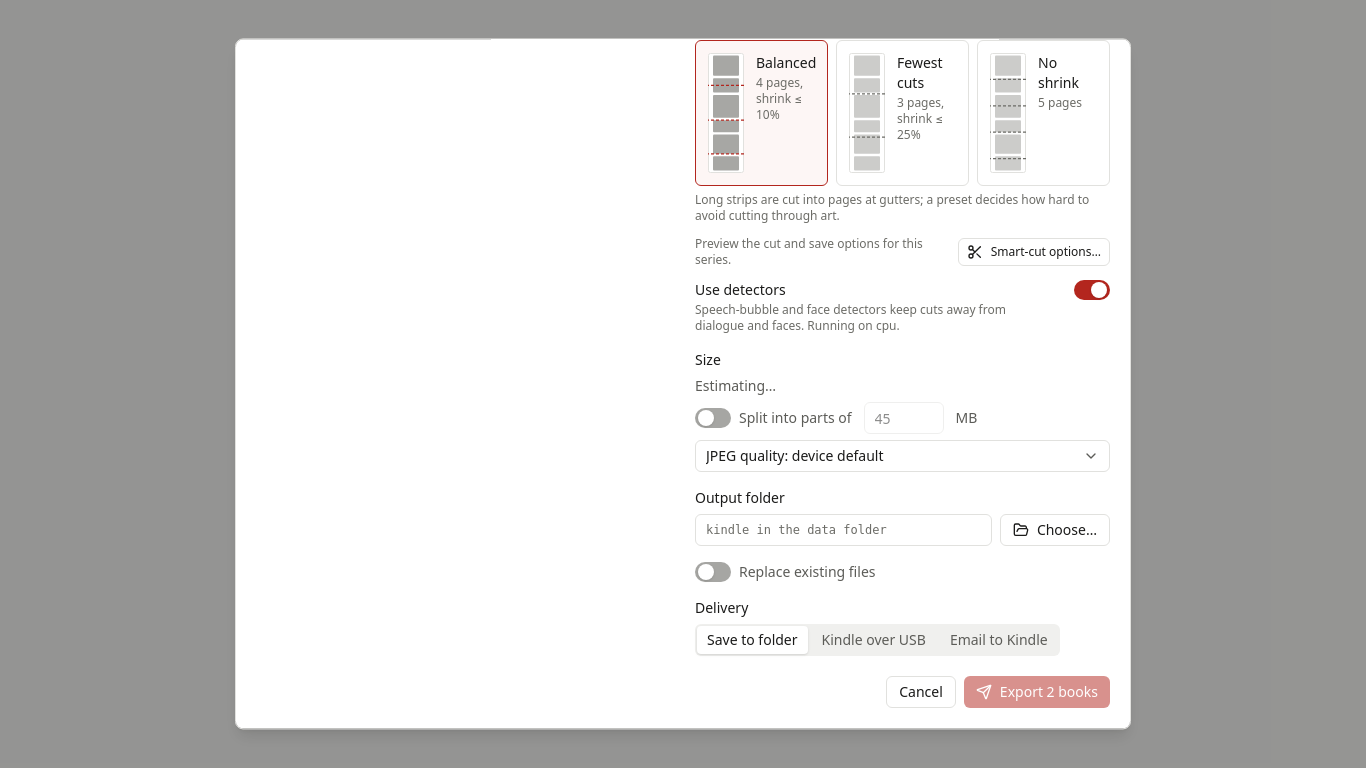
Test case: export dialog: the Kindle format follows the delivery › writes and copies AZW3 over USB and picks EPUB for Email, saying why
The image size is (1366, 768).
Later steps or results of the test are not shown.
(page scrolled)
Press the mouse on the tab "Email to Kindle" at point(999, 640), box x1=940 y1=626 x2=1058 y2=654
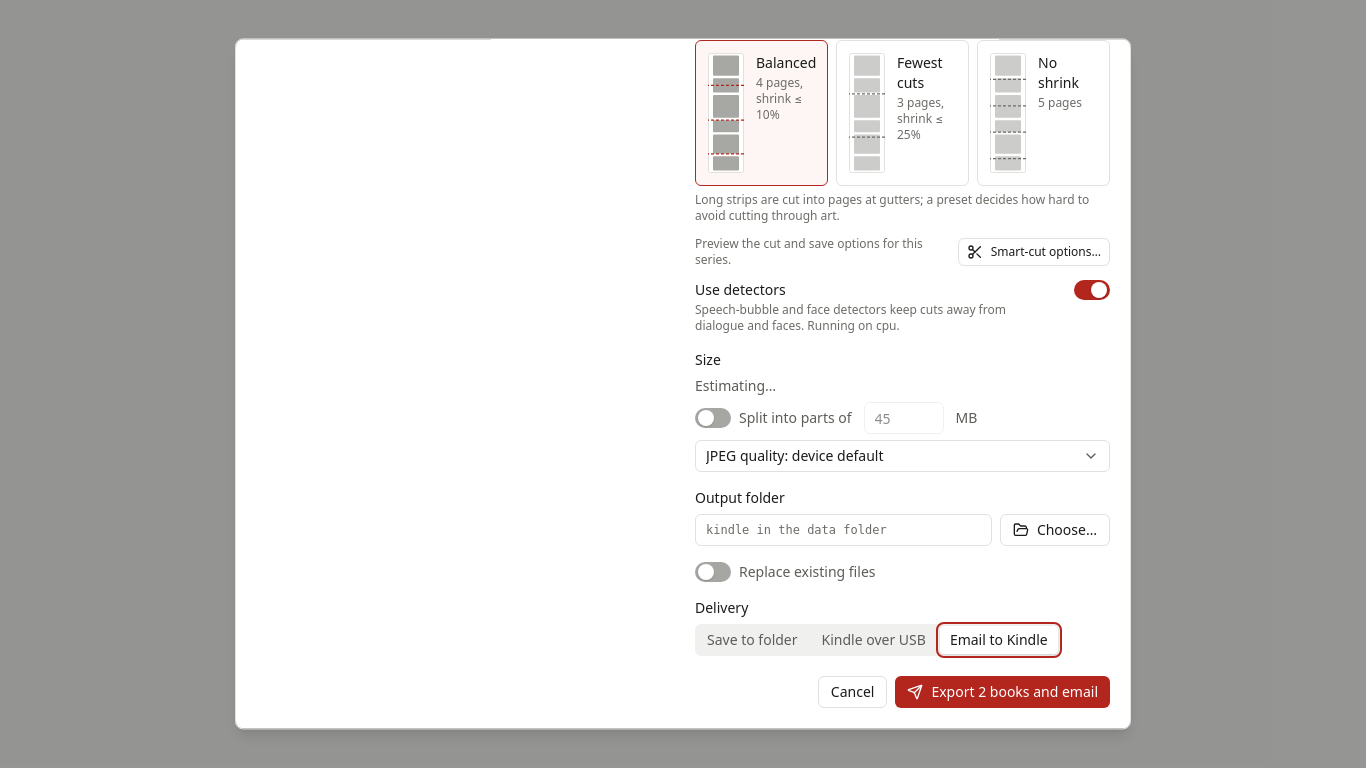
Press the mouse on the tab "Kindle over USB" at point(874, 640), box x1=812 y1=626 x2=936 y2=654
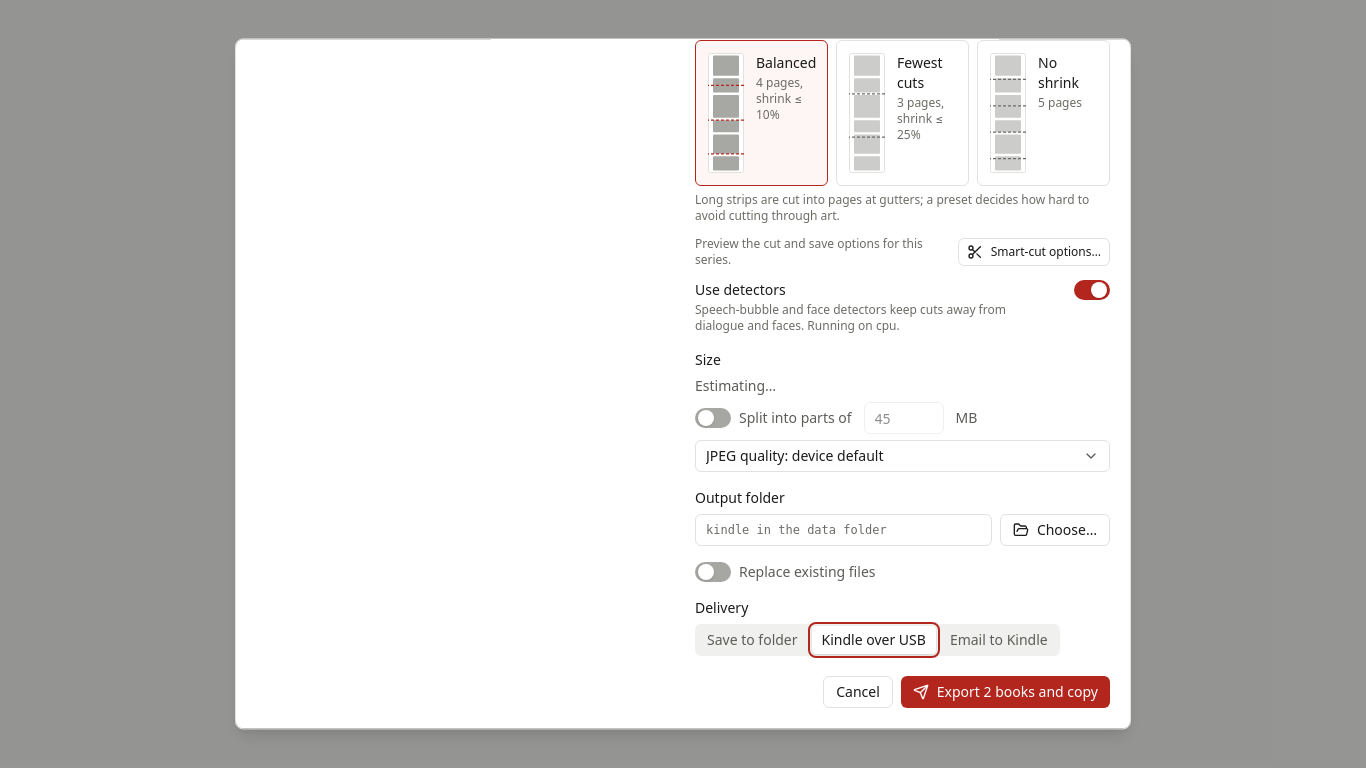
Expected: the button "Export 2 books and copy" is enabled, x1=901 y1=676 x2=1110 y2=708
